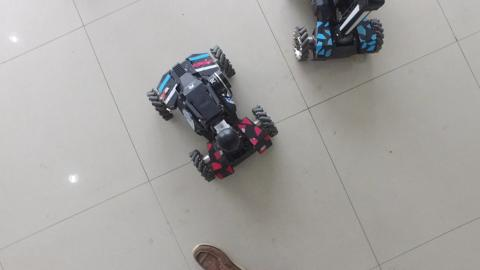chariot: (140, 43, 283, 187), (289, 1, 394, 65)
